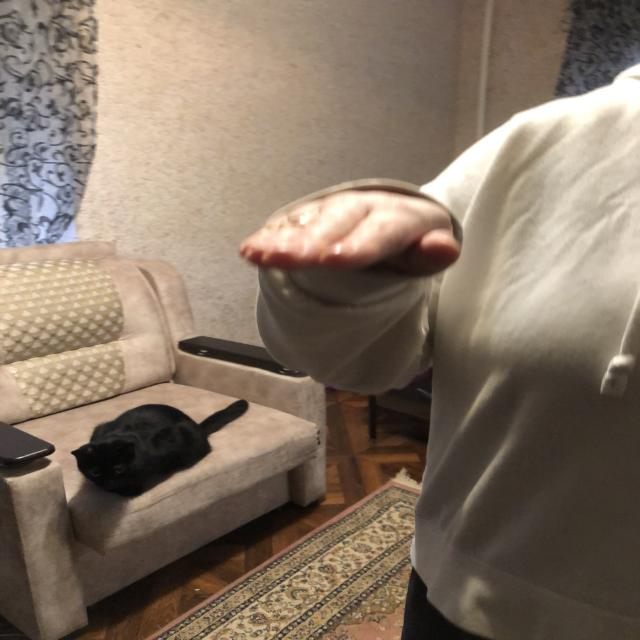paper: (238, 203, 466, 273)
